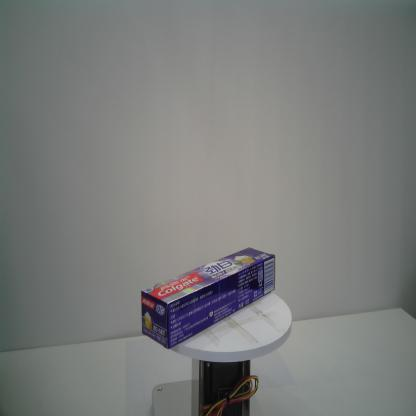Personal Hygiene: (140, 247, 276, 349)
